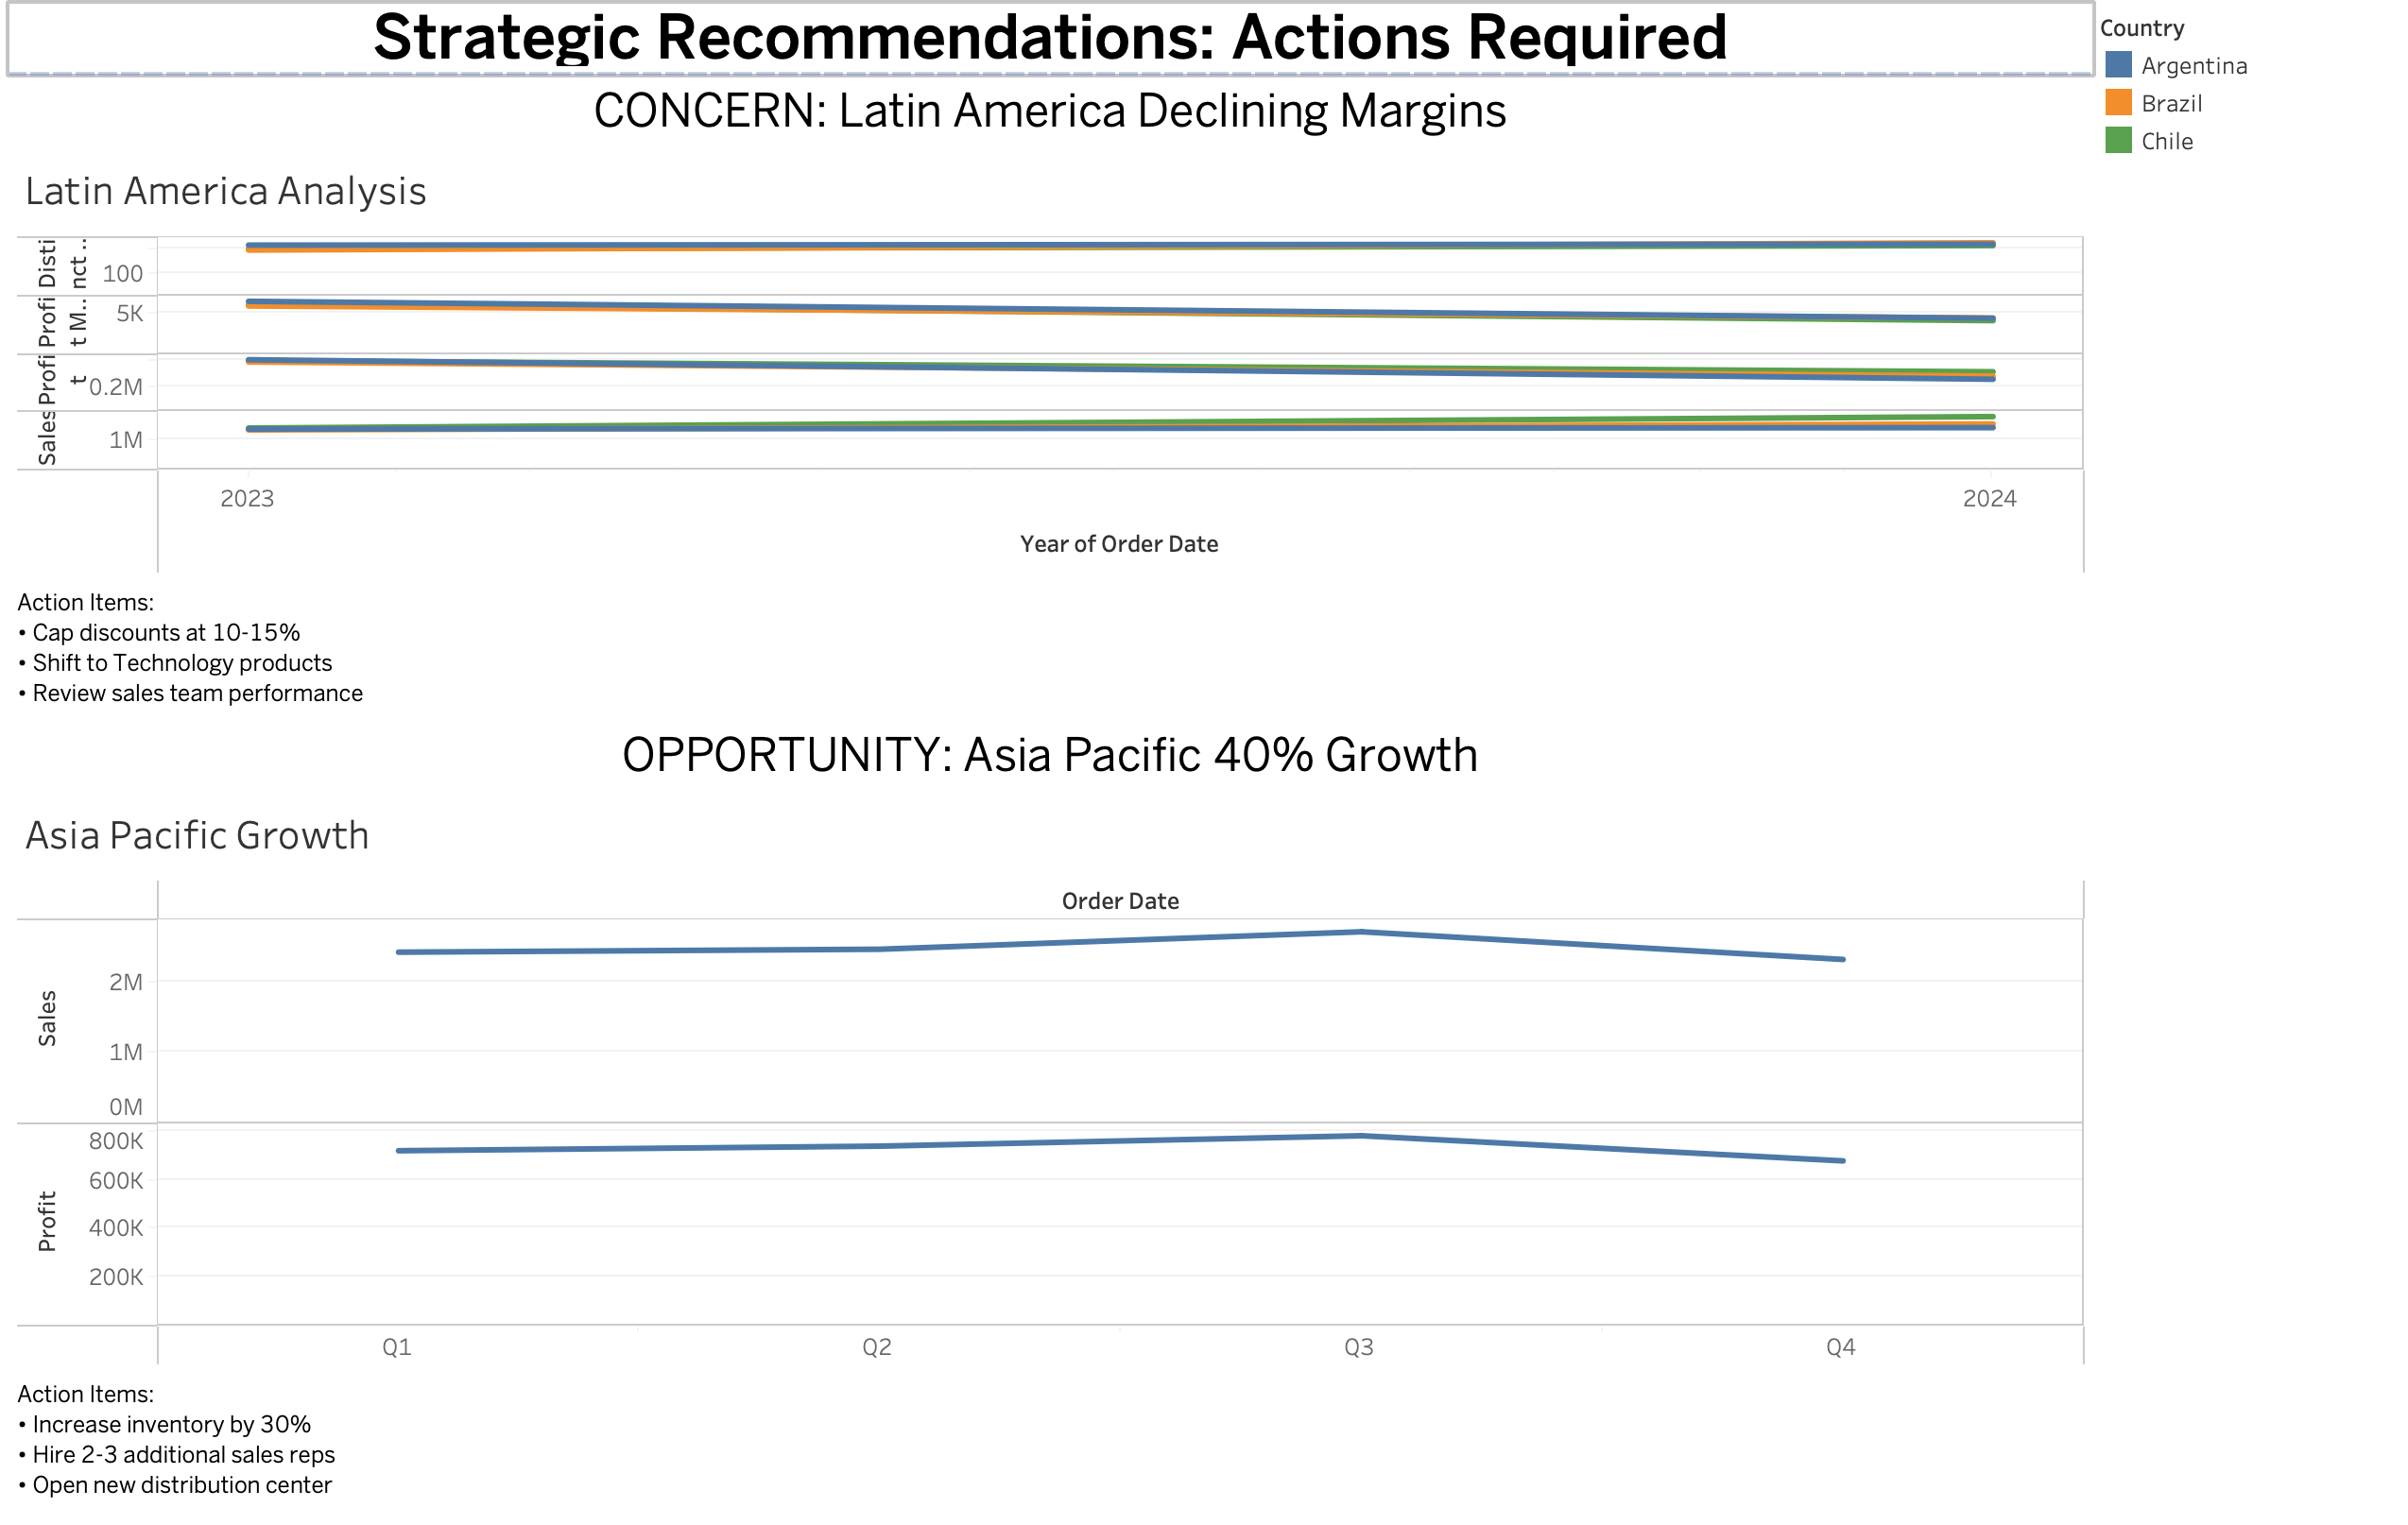

Layout of this report page (visuals, bound fields, positions):
{"tool":"tableau","page":{"name":"5_Strategic_Actions","canvas":[1000,1000],"units":"permille","ordinal":4},"visuals":[{"type":"text","box":[6.2,11.3,862.6,45.6]},{"type":"legend","title":"Latin America Analysis","param":"[federated.0rimsko0mqds3k1eb8vza0f691zb].[none:Country:nk]","box":[868.9,11.3,124.9,121.1]},{"type":"text","box":[6.2,56.8,862.6,54.9]},{"type":"worksheet","title":"Latin America Analysis","mark":"Automatic","rows":["Order ID","Profit Margin","Profit","Sales"],"cols":["Order Date"],"box":[6.2,111.8,862.6,393.4]},{"type":"text","box":[6.2,505.2,862.6,45.1]},{"type":"worksheet","title":"Asia Pacific Growth","mark":"Automatic","rows":["Sales","Profit"],"cols":["Order Date"],"box":[6.2,550.2,862.6,438.5]}]}

Visuals, with their boxes on the dashboard's canvas, which has no fixed pixel size, in thousandths of its width and height (x1, y1, x2, y2). These are canvas units, not pixel positions in the 2408x1525 screenshot, which may show the page scaled, cropped or inside an application window:
text: [6, 11, 869, 57]
"Latin America Analysis" legend: [869, 11, 994, 132]
text: [6, 57, 869, 112]
"Latin America Analysis" worksheet: [6, 112, 869, 505]
text: [6, 505, 869, 550]
"Asia Pacific Growth" worksheet: [6, 550, 869, 989]
